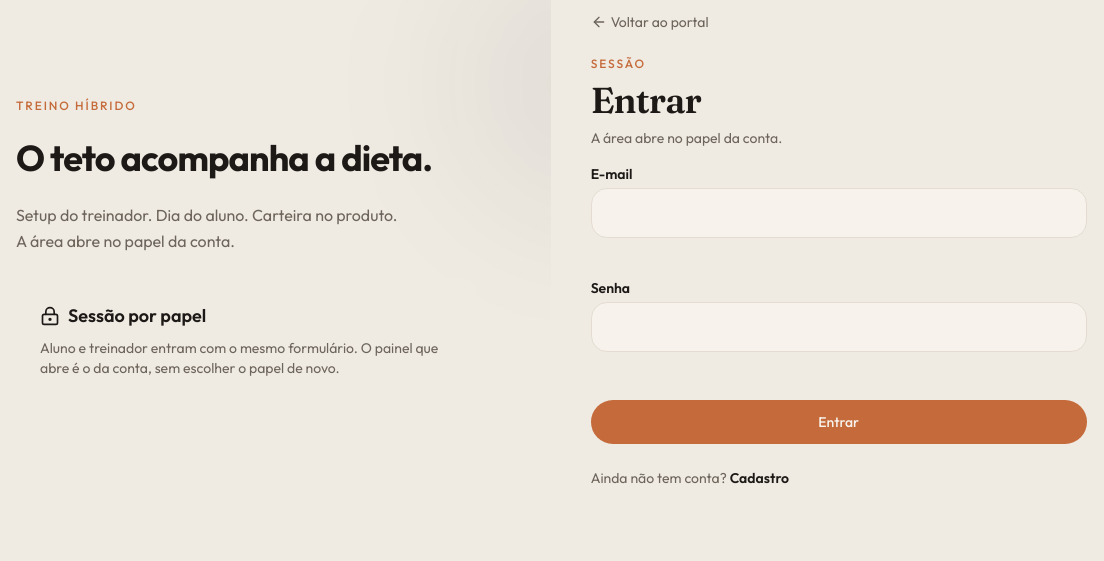
Test case: login com combinação errada não grava JWT e mostra texto genérico
Type "ana@example.com" into the field labelled "E-mail" at (839, 213), box [591, 188, 1087, 238]
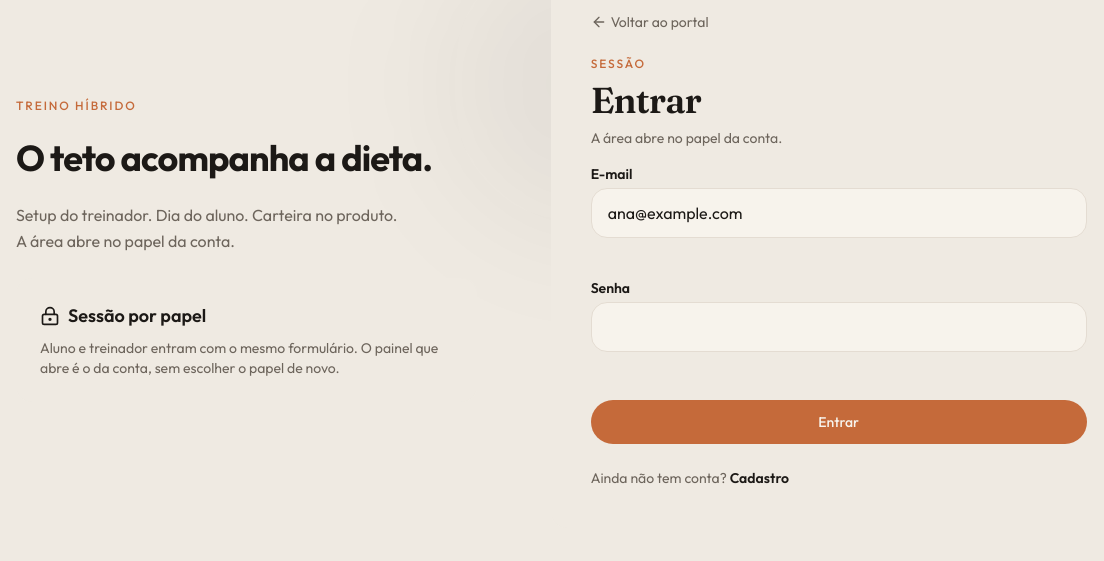
Type "SenhaErrada1" into the password field labelled "Senha" at (839, 327), box [591, 302, 1087, 352]
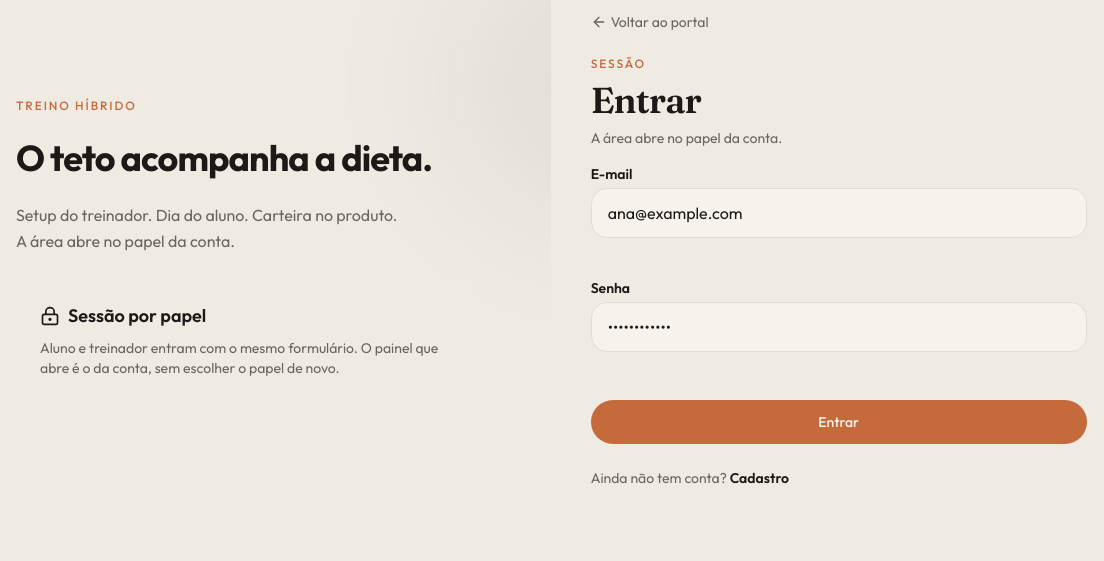
Click the button "Entrar" at (839, 422), box [591, 400, 1087, 444]
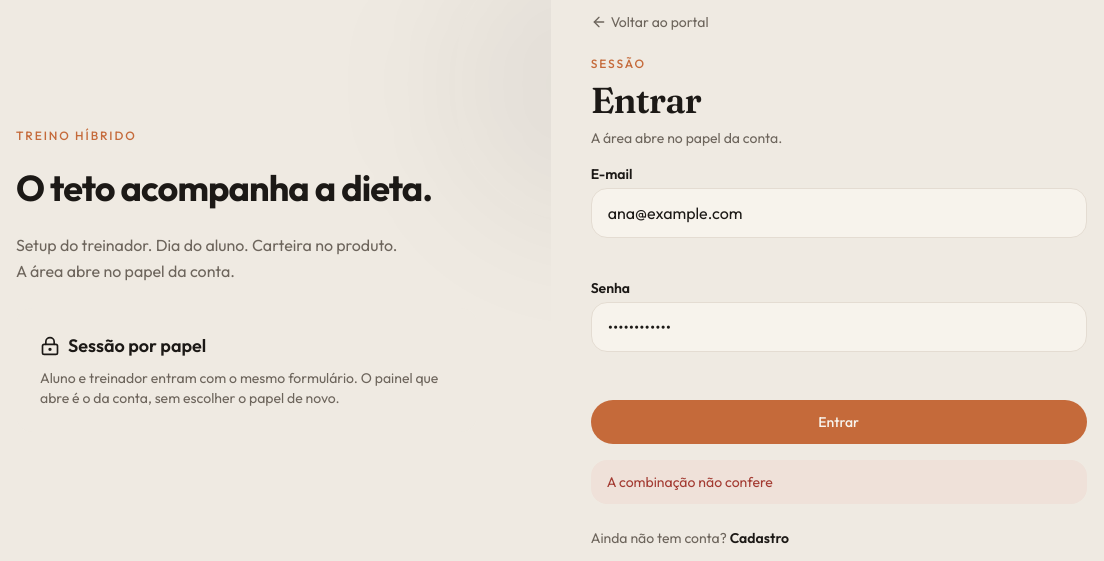
Now the text "A combinação não confere" is shown, box [591, 460, 1087, 504]
